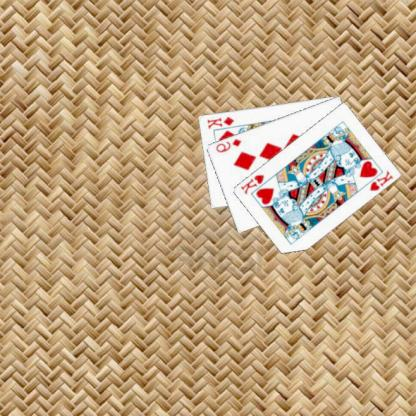9D: (214, 136, 244, 154)
KD: (206, 114, 237, 130)
KH: (239, 171, 267, 196), (368, 168, 396, 192)
